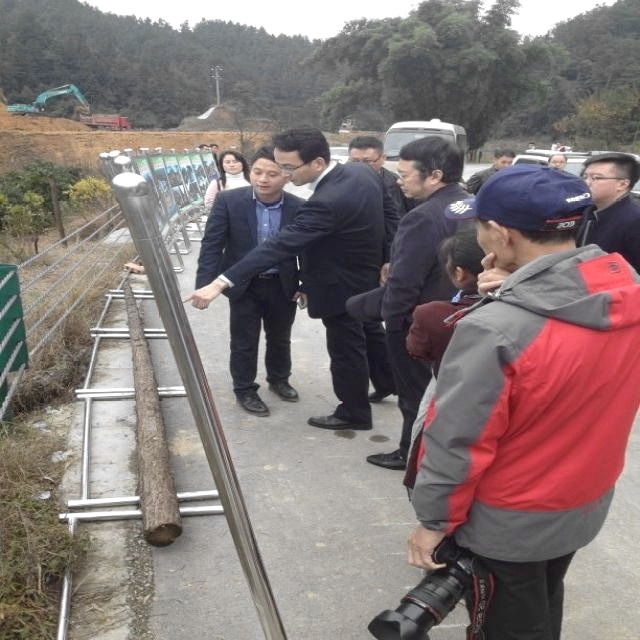Sin_Casco_Mascarrilla: (396, 135, 466, 197), (273, 124, 329, 187)
Sin_Chaleco: (415, 249, 640, 530)
